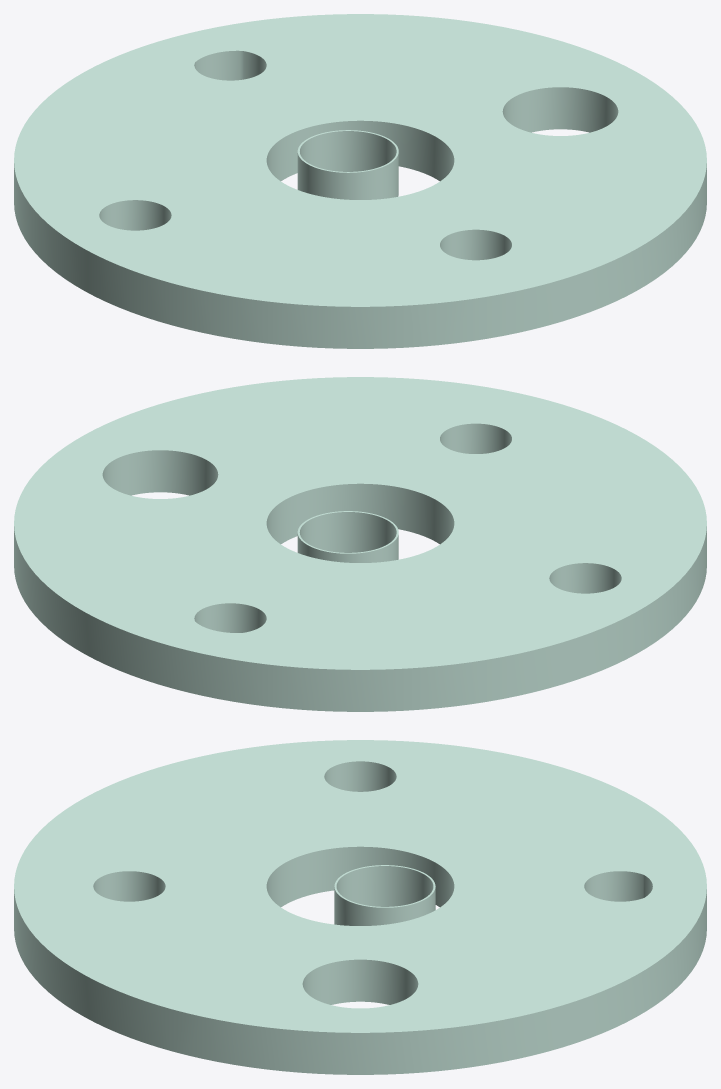
3 renders of one model, top to bottom at view 1: azimuth 30°, elevation 25°; view 2: azimuth 150°, elevation 25°; view 3: azimuth 270°, elevation 25°, orthographic.
Parts seen in each view (by area): view 1: Renderer Node; view 2: Renderer Node; view 3: Renderer Node.
Boxes of the visible parts, left/top/right/bottom form: Renderer Node: left=14, top=14, right=706, bottom=348; Renderer Node: left=14, top=377, right=706, bottom=711; Renderer Node: left=14, top=740, right=706, bottom=1074.
Bounding box in the file's own units: 1.52 × 0.1016 × 1.52.
